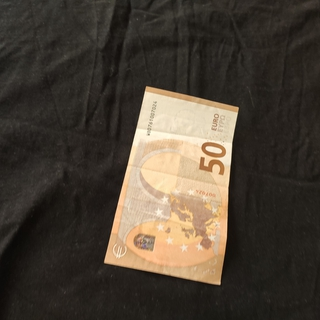50EUROBack: (102, 84, 240, 286)
